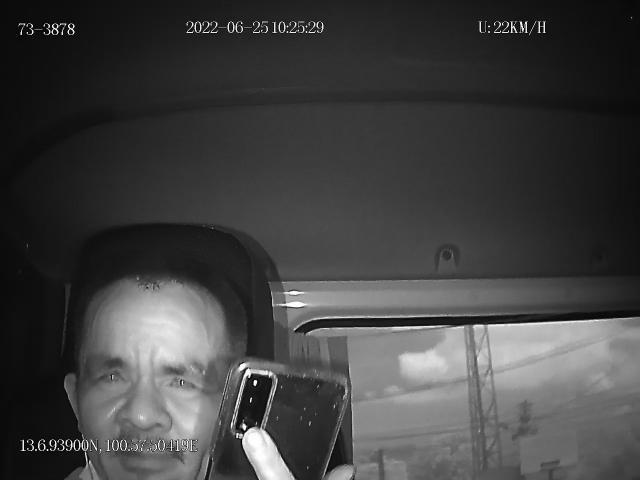PhoneUse: (212, 358, 350, 480)
SafeDriving: (158, 361, 208, 399), (86, 357, 134, 394)
